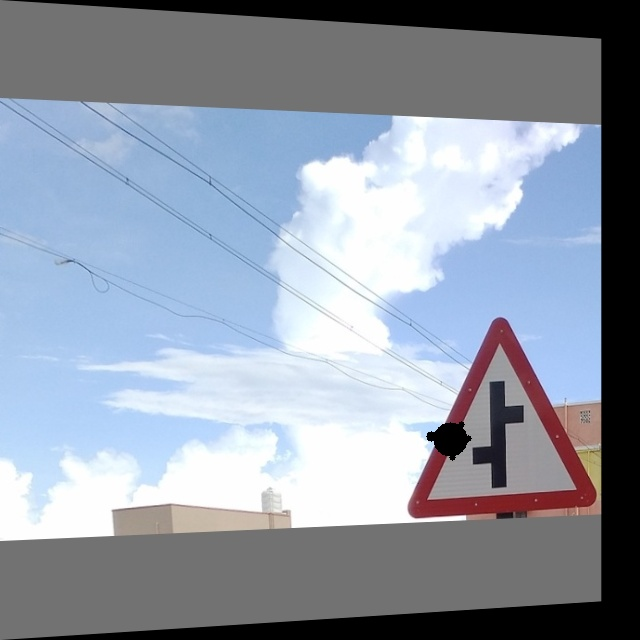Staggered_Intersection: (395, 318, 592, 512)
